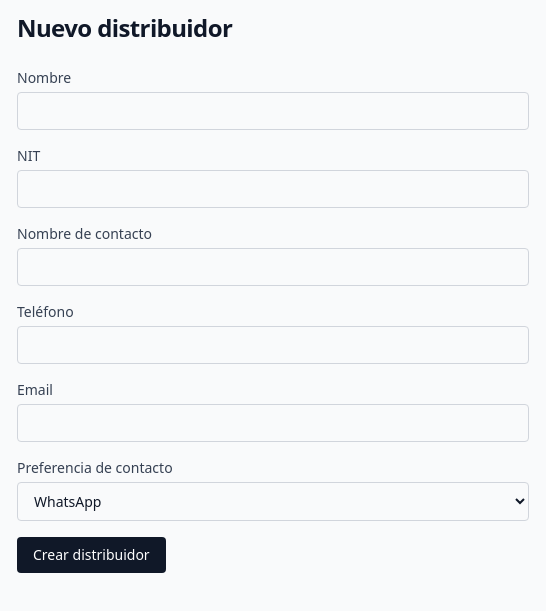
DistributorFormPage (DIST-1 · §S2 fila Distributor form) › email inválido: error inline y CERO requests (Zod por formulario, idea:198)
The width and height of the screenshot is (546, 611).
Type "Distribuidora Andes" into the field labelled "Nombre". click: (273, 111)
box: top-left (17, 92), bottom-right (529, 130)
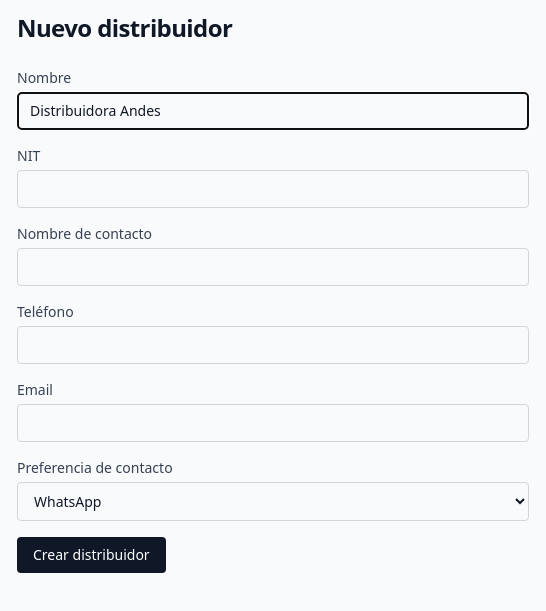
Type "900123456" into the field labelled "NIT". click: (273, 189)
box: top-left (17, 170), bottom-right (529, 208)
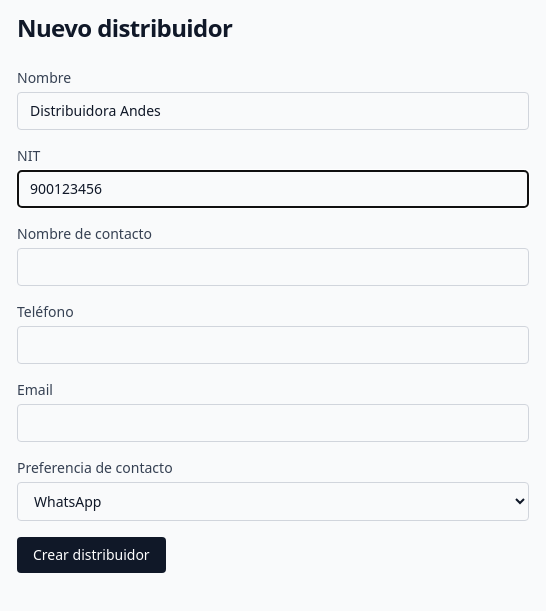
Type "no-es-un-email" into the field labelled "Email". click: (273, 423)
box: top-left (17, 404), bottom-right (529, 442)
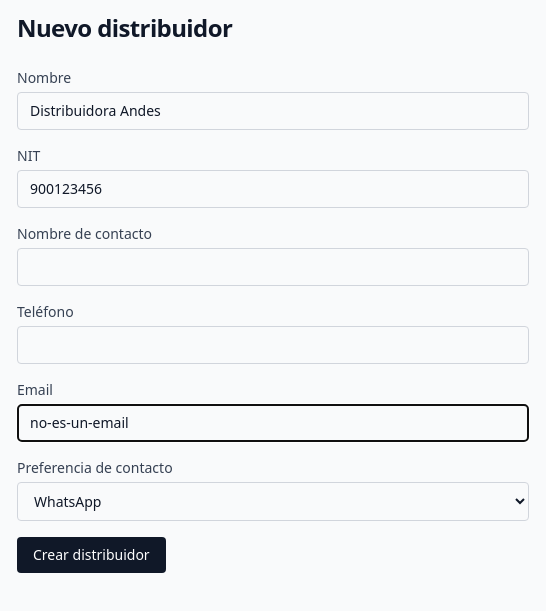
Click the button "Crear distribuidor". click: (91, 555)
box: top-left (17, 537), bottom-right (166, 573)
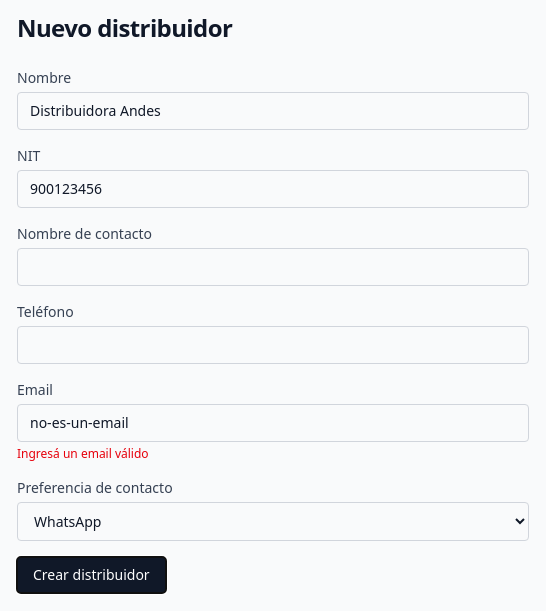
Expected: the text "Ingresá un email válido" is shown, top-left (17, 445), bottom-right (149, 462)
